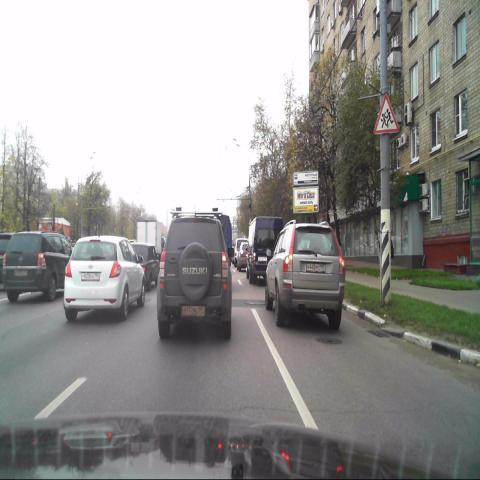1_23: (372, 92, 400, 135)
